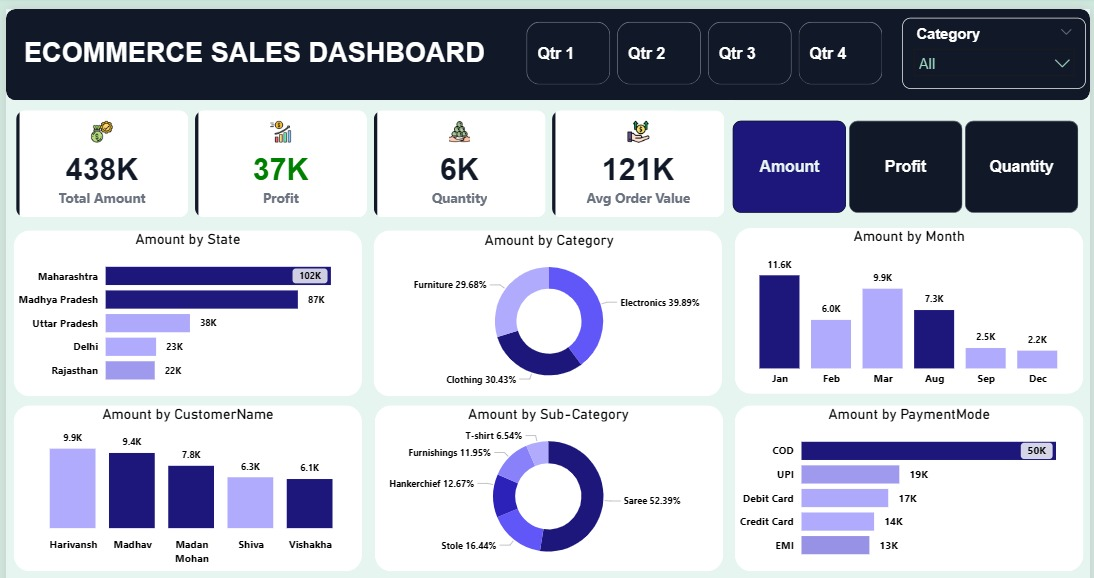

What the dashboard file says about the page in this screenshot:
{"tool":"powerbi","page":{"name":"Page 1","canvas":[1280,720],"ordinal":0},"visuals":[{"type":"shape","box":[0,0,1280,107.6],"z":0},{"type":"textbox","box":[16,29.1,605.1,49.5],"z":1000},{"type":"cardVisual","fields":{"Data":["_Measure_all.Amount","_Measure_all.Profit","_Measure_all.Quantity","_Measure_all.Avg Order Value"]},"box":[0,107.7,860.5,150.6],"z":2000},{"type":"shape","box":[8.3,261.8,411.6,196.4],"z":3000},{"type":"shape","box":[434.4,261.8,411.6,196.4],"z":4000},{"type":"shape","box":[860.6,258.9,411.6,196.4],"z":5000},{"type":"shape","box":[8.7,468.4,411.6,196.4],"z":6000},{"type":"shape","box":[434.9,468.4,411.6,196.4],"z":7000},{"type":"shape","box":[860.5,467.9,411.8,196.3],"z":8000},{"type":"clusteredBarChart","fields":{"Y":["_Measure_all.Total Amount"],"Category":["Orders.State"]},"box":[8.9,261.3,411.8,193.4],"z":9000},{"type":"donutChart","fields":{"Y":["_Measure_all.Total Amount"],"Category":["Details.Category"]},"box":[435.3,263.1,411.9,193],"z":10000},{"type":"donutChart","fields":{"Y":["_Measure_all.Total Amount"],"Category":["Details.Sub-Category"]},"box":[435.4,467.9,410.3,196.3],"z":11000},{"type":"clusteredColumnChart","fields":{"Y":["_Measure_all.Total Amount"],"Category":["Orders.CustomerName"]},"box":[8.9,467.9,411.8,196.3],"z":12000},{"type":"clusteredColumnChart","fields":{"Category":["Orders.Month"],"Y":["_Measure_all.Total Amount"]},"box":[860.5,258.3,411.8,196.3],"z":13000},{"type":"clusteredBarChart","fields":{"Y":["_Measure_all.Total Amount"],"Category":["Details.PaymentMode"]},"box":[860.7,468.5,411.9,193],"z":14000},{"type":"advancedSlicerVisual","fields":{"Values":["Orders.Order Date.Variation.Date Hierarchy.Quarter"]},"box":[609.6,10.3,433.9,84.1],"z":15000},{"type":"slicer","fields":{"Values":["Details.Category"]},"box":[1058.3,10.3,217,84.1],"z":16000},{"type":"advancedSlicerVisual","fields":{"Values":["Dynamic.Dynamic"]},"box":[853.1,126.9,419.2,119.6],"z":17000}]}

Visuals, with their boxes on the page's 1280x720 design canvas (x1, y1, x2, y2). These are canvas units, not pixel positions in the 1094x578 screenshot, which may show the page scaled, cropped or inside an application window:
shape: bbox=(0, 0, 1280, 108)
textbox: bbox=(16, 29, 621, 79)
cardVisual - _Measure_all.Amount x _Measure_all.Profit: bbox=(0, 108, 860, 258)
shape: bbox=(8, 262, 420, 458)
shape: bbox=(434, 262, 846, 458)
shape: bbox=(861, 259, 1272, 455)
shape: bbox=(9, 468, 420, 665)
shape: bbox=(435, 468, 846, 665)
shape: bbox=(860, 468, 1272, 664)
clusteredBarChart - _Measure_all.Total Amount x Orders.State: bbox=(9, 261, 421, 455)
donutChart - _Measure_all.Total Amount x Details.Category: bbox=(435, 263, 847, 456)
donutChart - _Measure_all.Total Amount x Details.Sub-Category: bbox=(435, 468, 846, 664)
clusteredColumnChart - _Measure_all.Total Amount x Orders.CustomerName: bbox=(9, 468, 421, 664)
clusteredColumnChart - Orders.Month x _Measure_all.Total Amount: bbox=(860, 258, 1272, 455)
clusteredBarChart - _Measure_all.Total Amount x Details.PaymentMode: bbox=(861, 468, 1273, 662)
advancedSlicerVisual - Orders.Order Date.Variation.Date Hierarchy.Quarter: bbox=(610, 10, 1044, 94)
slicer - Details.Category: bbox=(1058, 10, 1275, 94)
advancedSlicerVisual - Dynamic.Dynamic: bbox=(853, 127, 1272, 246)
